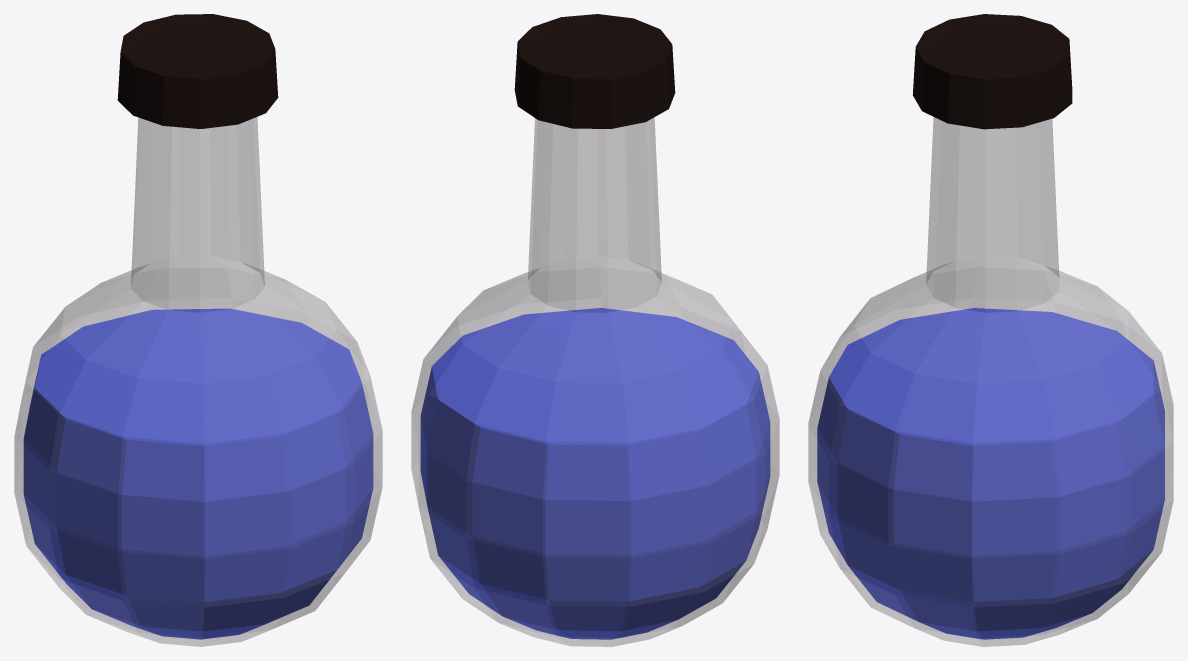
File: medicine2.fbx
3 renders of one model, left to right at view 1: azimuth 30°, elevation 25°; view 2: azimuth 150°, elevation 25°; view 3: azimuth 270°, elevation 25°, orthographic.
Parts seen in each view (by area): view 1: medicine2; view 2: medicine2; view 3: medicine2.
Part boxes in pixels (bbox=[...]): medicine2: bbox=[14, 14, 382, 646]; medicine2: bbox=[411, 14, 779, 646]; medicine2: bbox=[808, 14, 1173, 646].
Size of the model in its own units: 0.3871 by 0.3843 by 0.6658.
